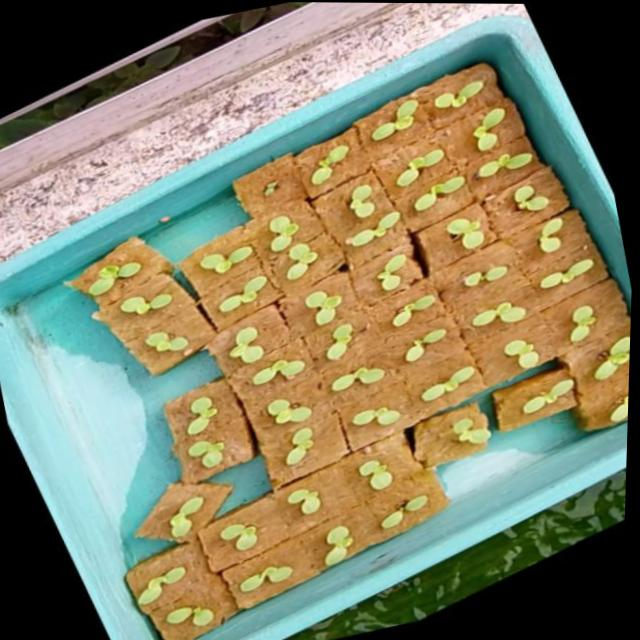Baby: (549, 298, 602, 356), (162, 483, 217, 538), (154, 589, 222, 633), (450, 251, 513, 291), (156, 556, 207, 604), (369, 249, 422, 293), (475, 140, 538, 177), (226, 562, 290, 597), (251, 350, 302, 392), (220, 274, 276, 312), (348, 209, 402, 245), (373, 98, 420, 139), (415, 174, 467, 210), (251, 398, 309, 429), (93, 263, 145, 297), (512, 168, 554, 210), (402, 326, 448, 362), (312, 144, 352, 184), (538, 258, 591, 288), (390, 294, 434, 327), (187, 439, 223, 478), (470, 301, 523, 327), (434, 81, 483, 109), (201, 243, 251, 270), (474, 107, 505, 150), (307, 289, 344, 325), (231, 325, 266, 362), (331, 366, 384, 390), (446, 215, 485, 247), (288, 242, 320, 279), (322, 523, 351, 563), (124, 293, 176, 315), (284, 426, 312, 465), (272, 216, 302, 252), (405, 149, 444, 176), (187, 395, 218, 428), (357, 459, 391, 489), (324, 324, 353, 359), (502, 339, 537, 368), (535, 215, 561, 252), (221, 521, 258, 547), (148, 331, 192, 352), (351, 182, 377, 216), (286, 488, 319, 513), (359, 406, 396, 424)
